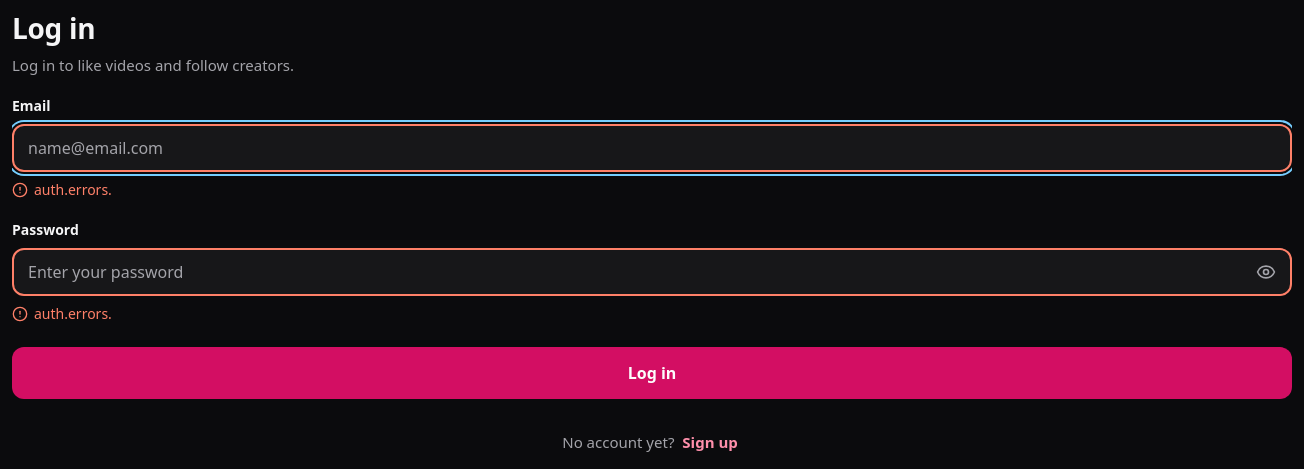
Test: AuthForm › en: a field error of the server shows on the email field and takes the focus
Type "minhanh@gmail.com" into the field labelled "Email" at {"x": 652, "y": 148}, box left=14, top=126, right=1290, bottom=170
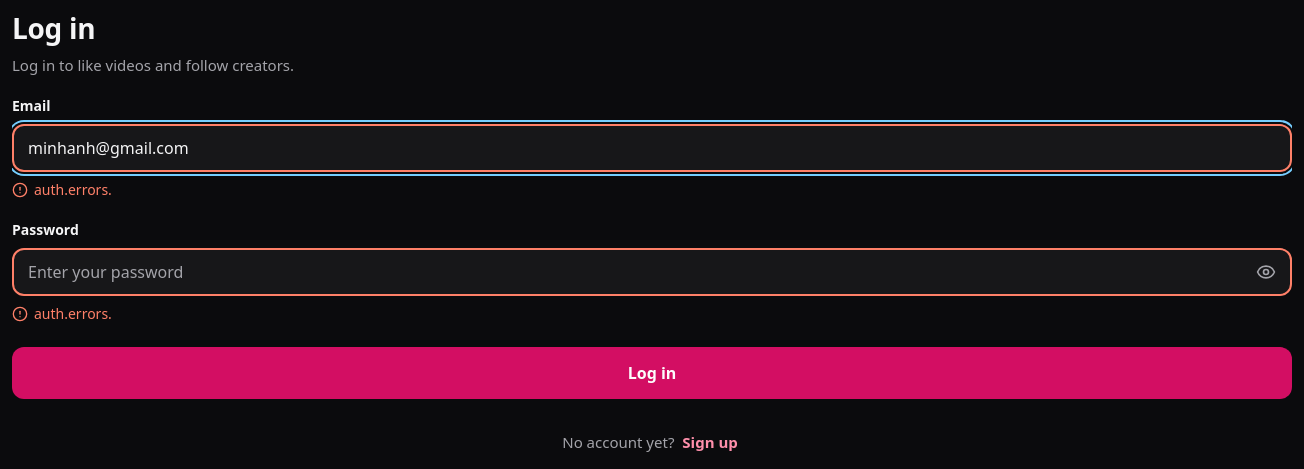
Type "12345678" into the password field labelled "Password" at {"x": 629, "y": 272}, box left=14, top=250, right=1244, bottom=294
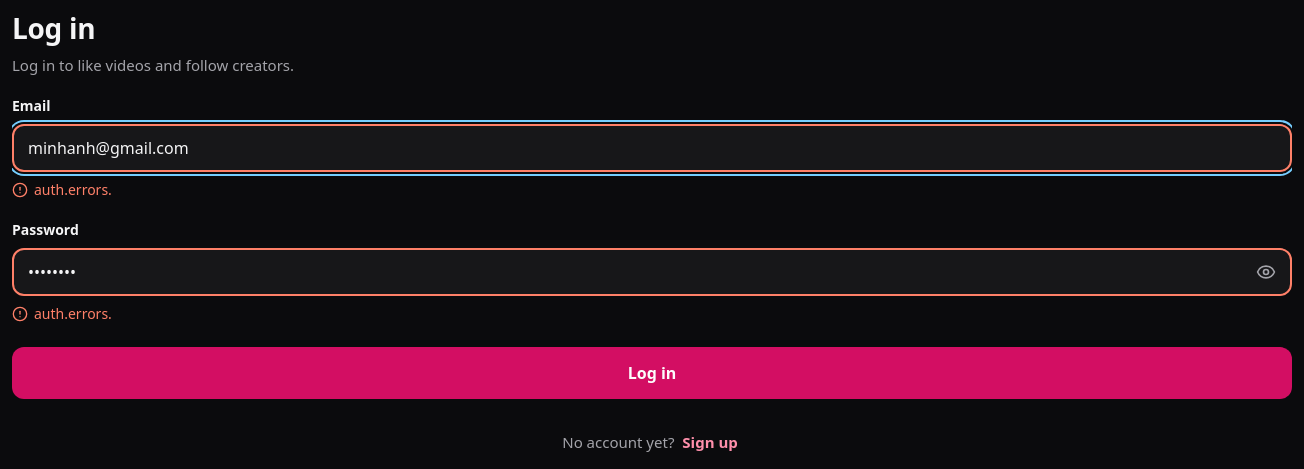
Click the button "Log in" at {"x": 652, "y": 373}, box left=12, top=347, right=1292, bottom=399
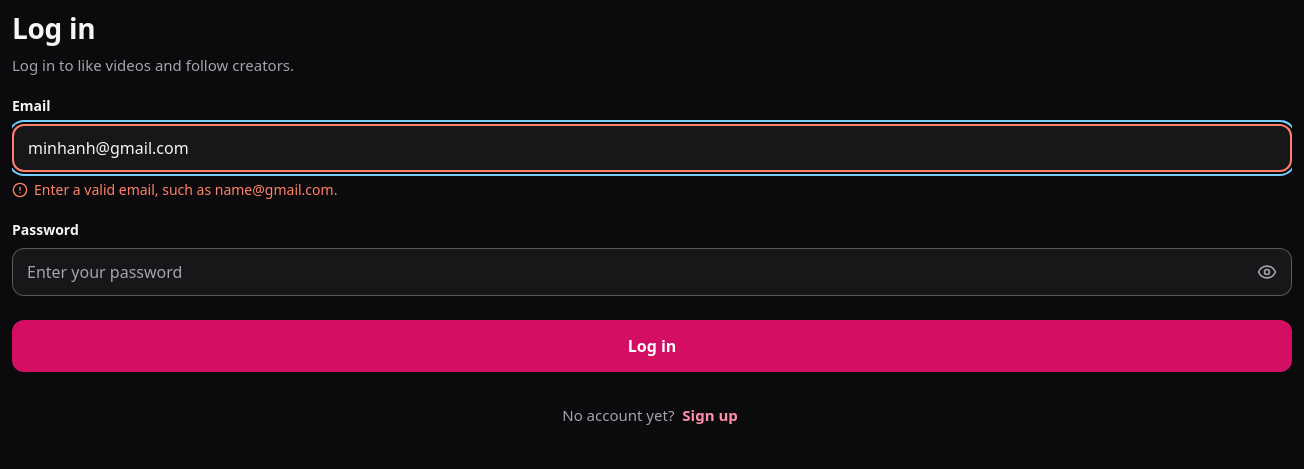
Now the text "Enter a valid email, such as name@gmail.com." is shown, box left=34, top=180, right=337, bottom=200
